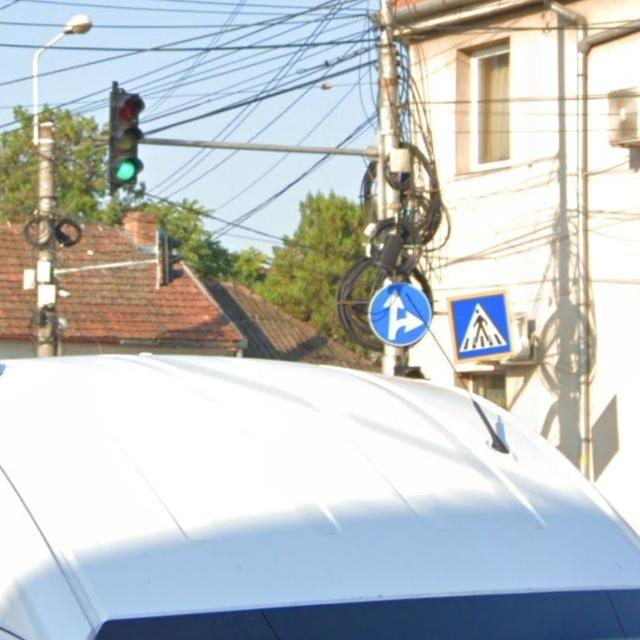info_crosswalk: (447, 292, 513, 362)
